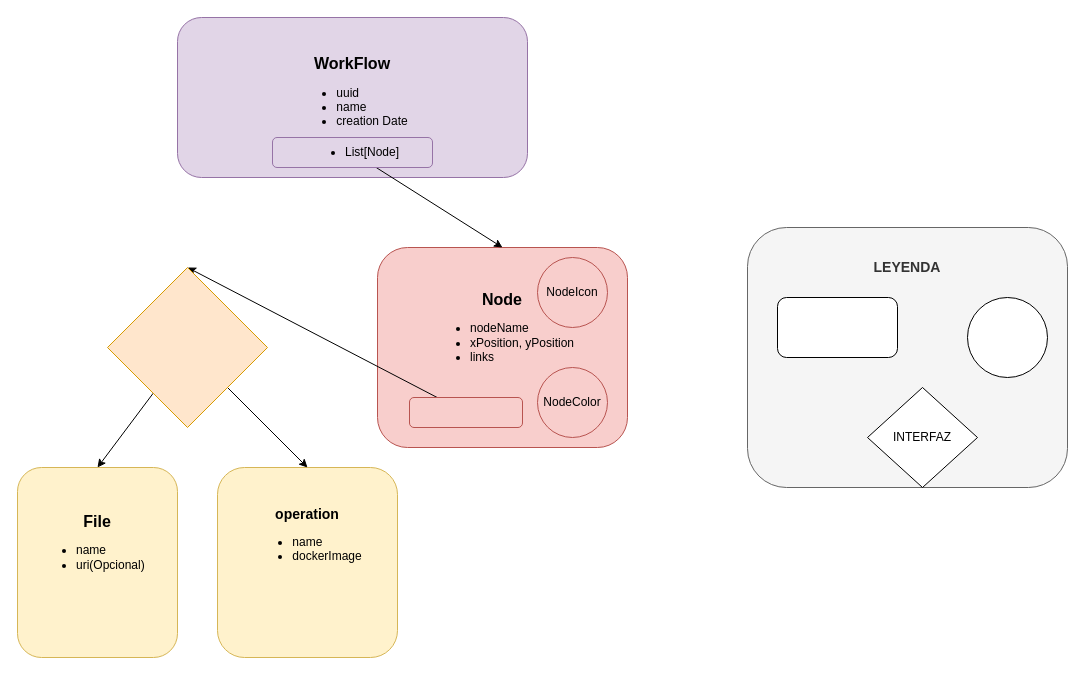
The diagram is 1085 pixels wide and 675 high, and some of its shapes have lost their labels. Each missing label, with the centre of its shape:
"CLASE" goes at pixel 837 327.
"content" goes at pixel 465 412.
"ENUM" goes at pixel 1007 337.
"NodeContent getType()" goes at pixel 187 347.
